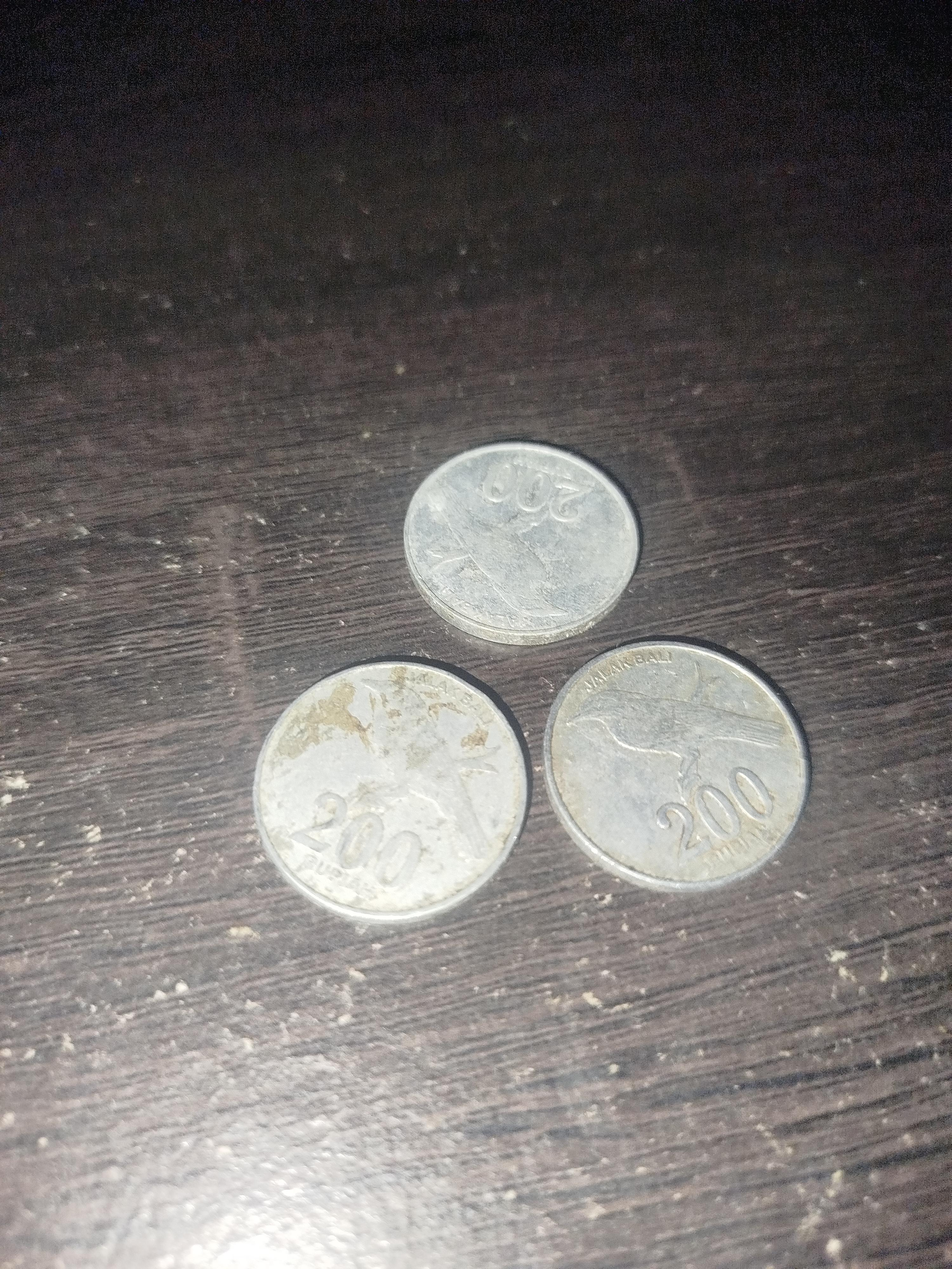coin_200_e2003: (250, 656, 532, 924), (546, 637, 810, 895), (401, 440, 639, 642)
